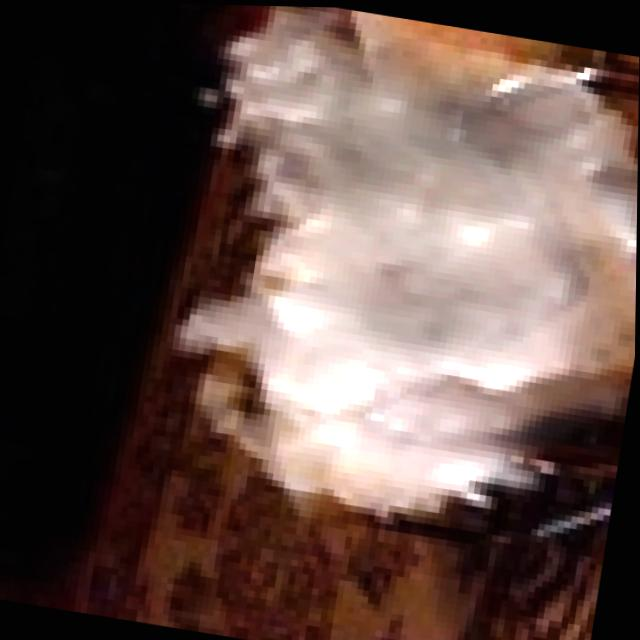smoke: (134, 2, 640, 550)
